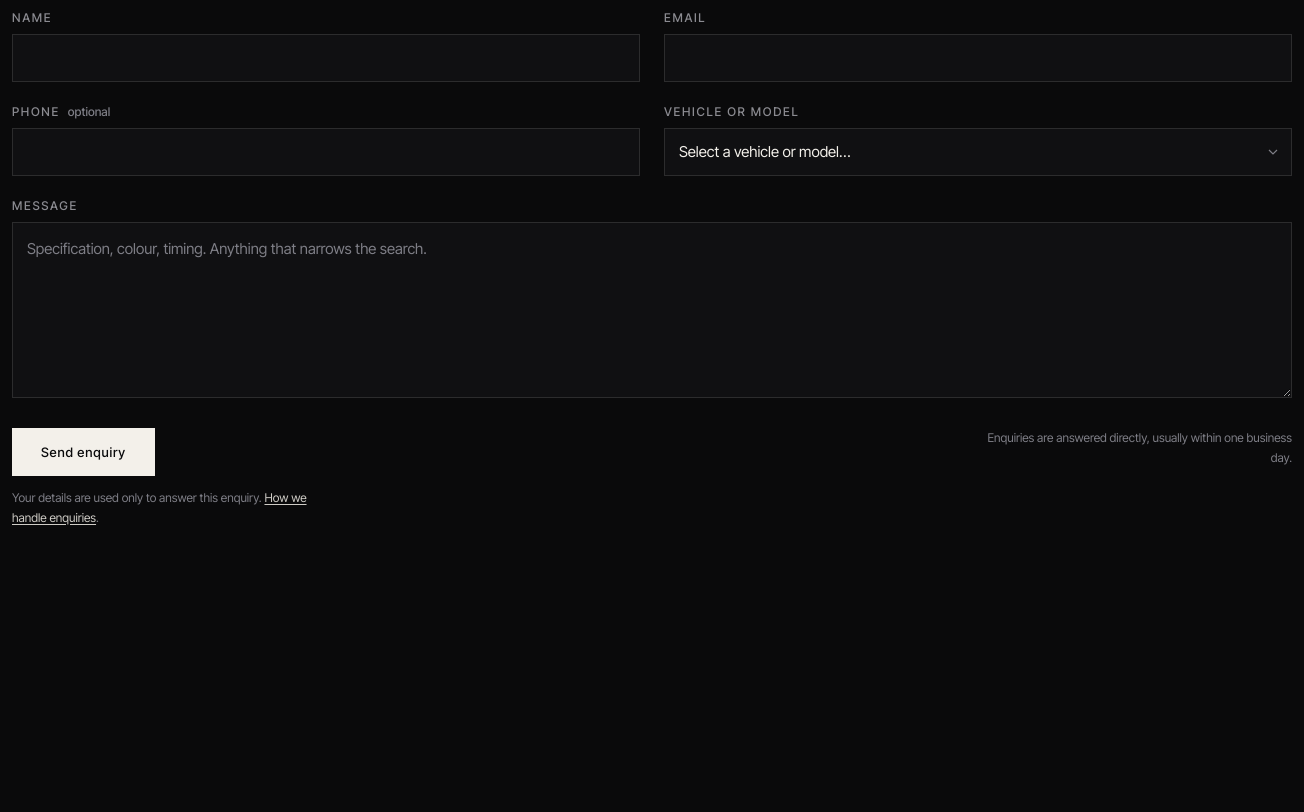
Scenario: InquiryForm › blocks submission and summarises errors when the form is empty
The image size is (1304, 812).
Click the button "Send enquiry" at (83, 452), box [12,428,155,476]
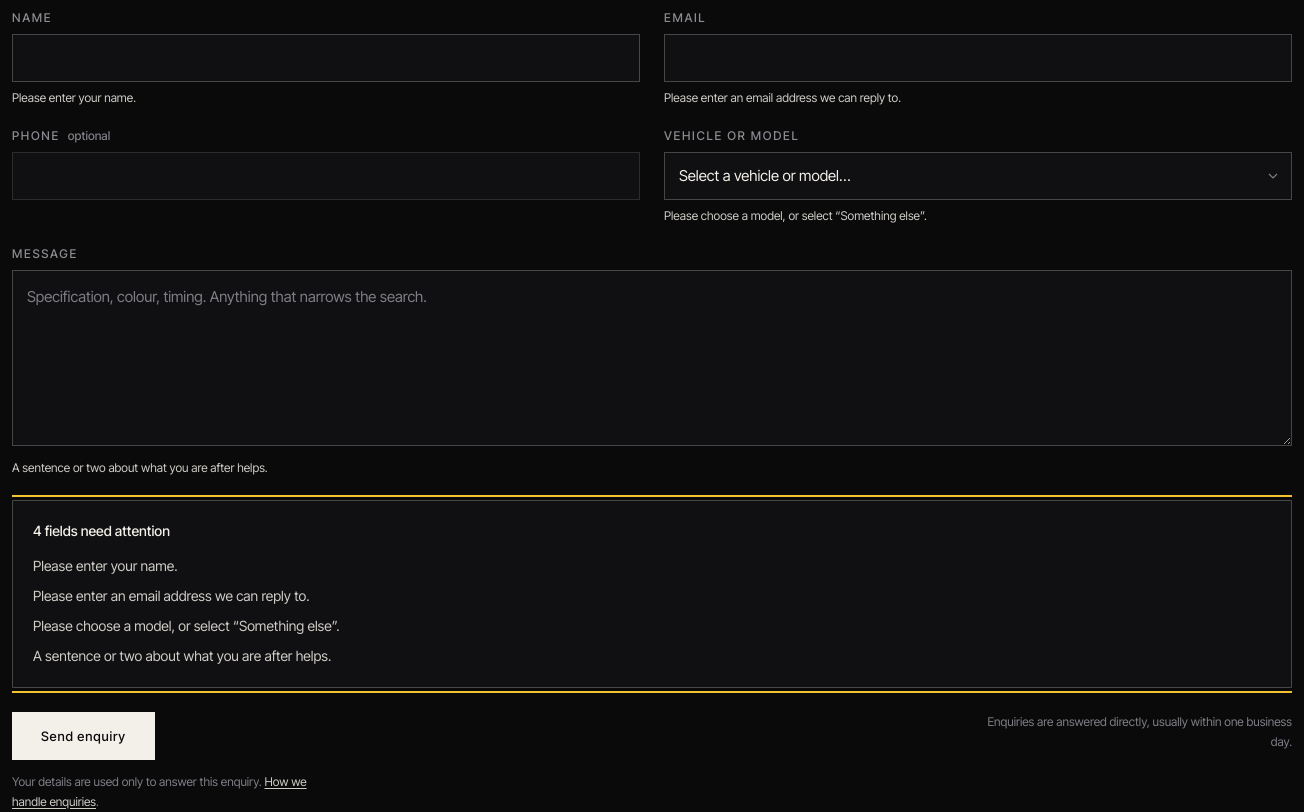
Expected: the message shows "fields need attention", [33,522,170,539]
